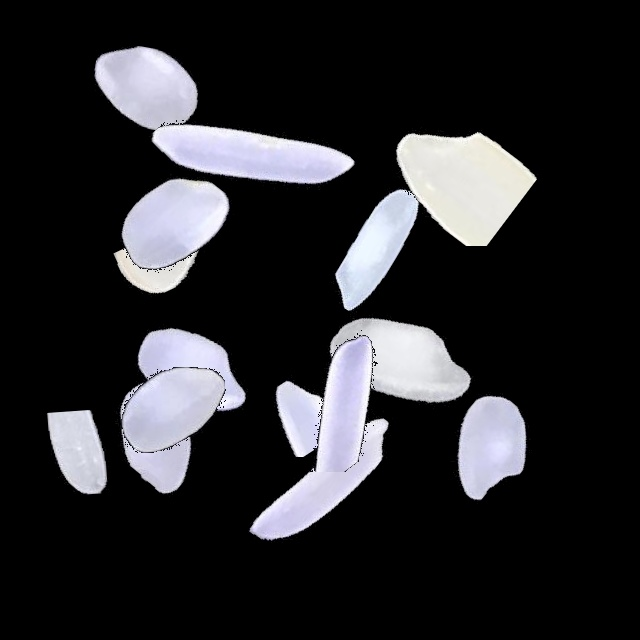Broken: (12, 46, 262, 210), (322, 89, 572, 246), (193, 318, 443, 472), (8, 354, 146, 604), (78, 217, 328, 324), (161, 355, 411, 457)
Full: (67, 245, 317, 495), (127, 23, 377, 273), (33, 310, 283, 560), (198, 356, 448, 606), (250, 125, 500, 375), (275, 236, 525, 486), (365, 322, 615, 572), (47, 283, 297, 533), (48, 99, 298, 349)
